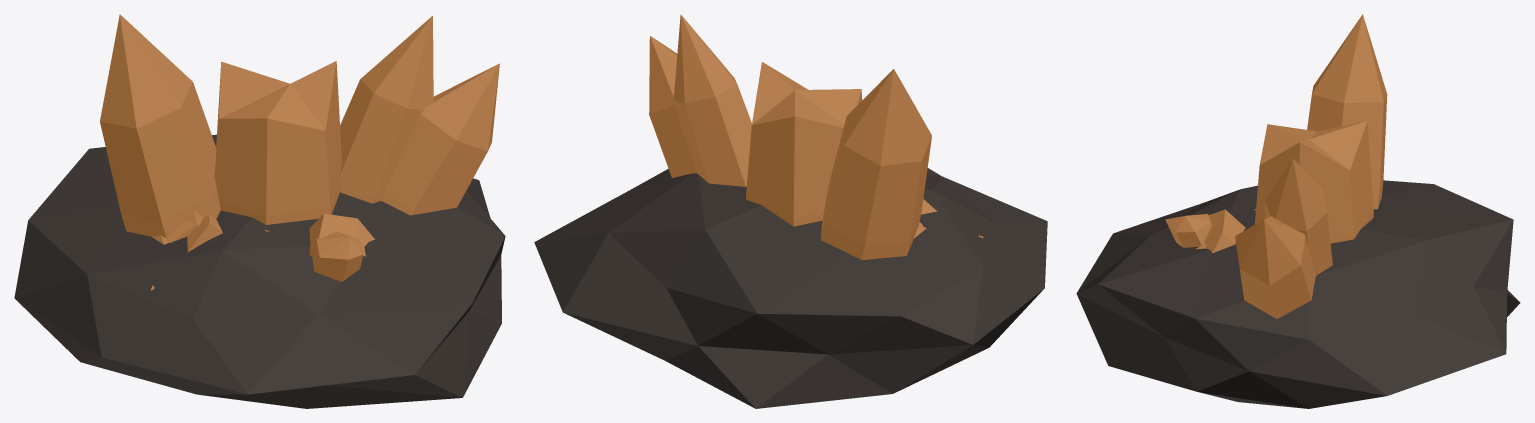
The model's file is wb_crystal_knee_broken_lod1.glb.
The picture shows the model from 3 angles, left to right: view 1: azimuth 30°, elevation 25°; view 2: azimuth 150°, elevation 25°; view 3: azimuth 270°, elevation 25°; orthographic projection. The views are drawn at different scales.
Parts seen in each view (by area): view 1: wb_crystal_knee_broken_lod1; view 2: wb_crystal_knee_broken_lod1; view 3: wb_crystal_knee_broken_lod1.
Part boxes in pixels (left/top/right/bottom): wb_crystal_knee_broken_lod1: left=14, top=14, right=505, bottom=408; wb_crystal_knee_broken_lod1: left=534, top=14, right=1047, bottom=408; wb_crystal_knee_broken_lod1: left=1076, top=14, right=1520, bottom=408.
Size of the model in its own units: 1.26 by 0.9022 by 1.21.
